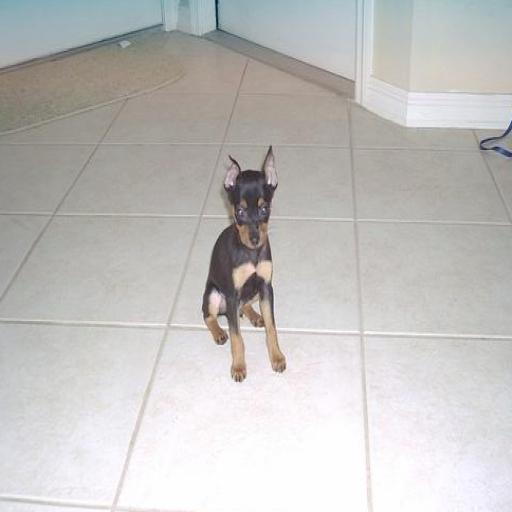dog_face: (226, 140, 275, 246)
